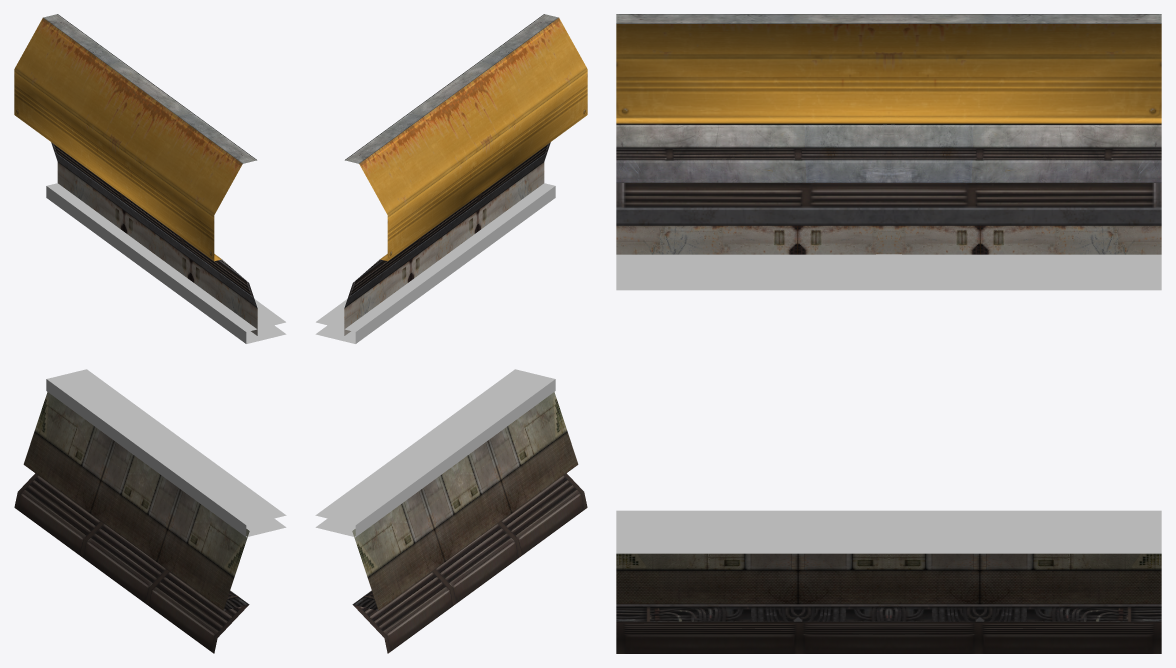
Rendered from Wall_WallSideANew_12.fbx.
3 views of the same model, side by side, from view 1: azimuth 30°, elevation 25°; view 2: azimuth 150°, elevation 25°; view 3: azimuth 270°, elevation 25° (orthographic). The views are drawn at different scales.
Parts seen in each view (by area): view 1: wall, window frame; view 2: wall, window frame; view 3: wall, window frame.
Part boxes in pixels (x1,y1,x2,y2): wall: [14, 14, 257, 653]; window frame: [46, 183, 286, 537]; wall: [344, 14, 587, 653]; window frame: [315, 183, 555, 537]; wall: [616, 14, 1161, 653]; window frame: [616, 254, 1161, 553].
Size of the model in its own units: 62.88 by 400 by 300.
